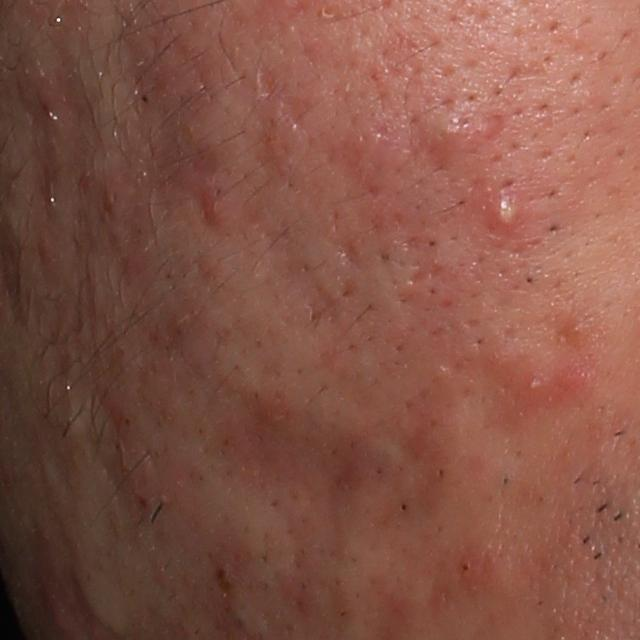papule: (340, 124, 415, 183), (412, 102, 477, 162), (41, 584, 78, 637), (193, 188, 228, 228), (558, 369, 590, 396)
pustule: (481, 184, 526, 232)
